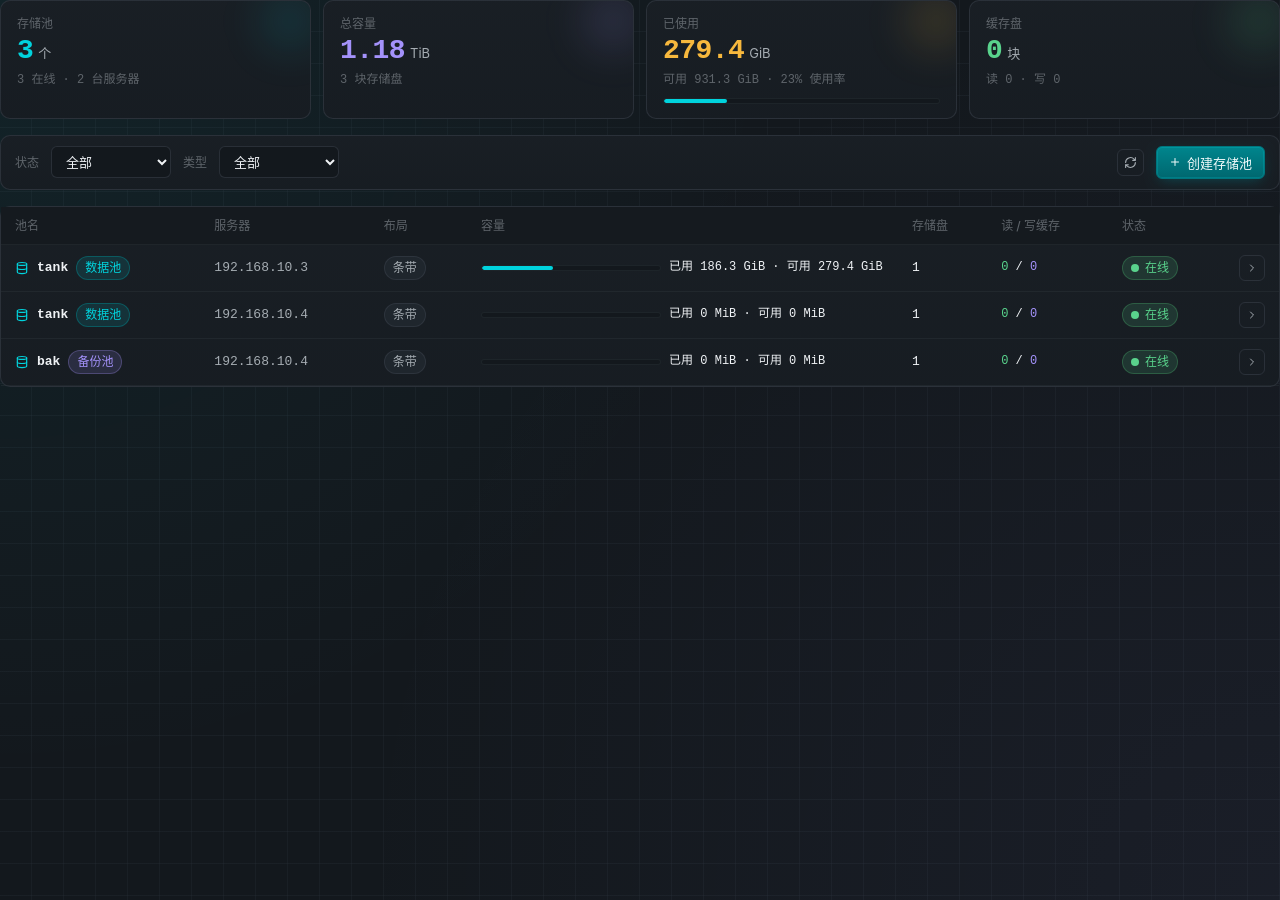
存储页的集群口径 › 两种都有的节点，类型置灰、不能创建
Click the button "创建存储池". click: {"x": 1210, "y": 162}
box: [1156,146,1265,179]
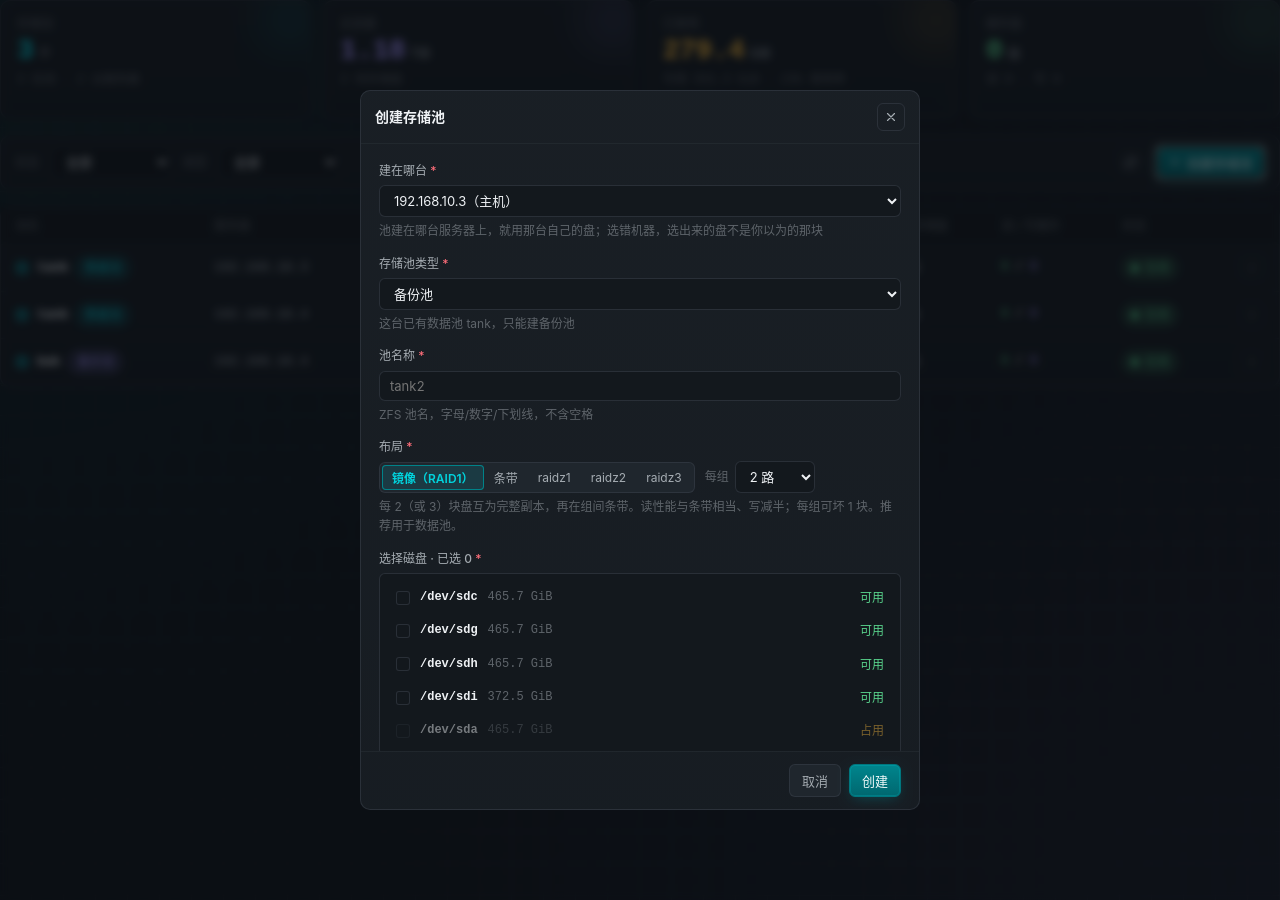
Select "192.168.10.4" in the dropdown named "建在哪台". click: {"x": 640, "y": 201}
box: [379,185,901,217]
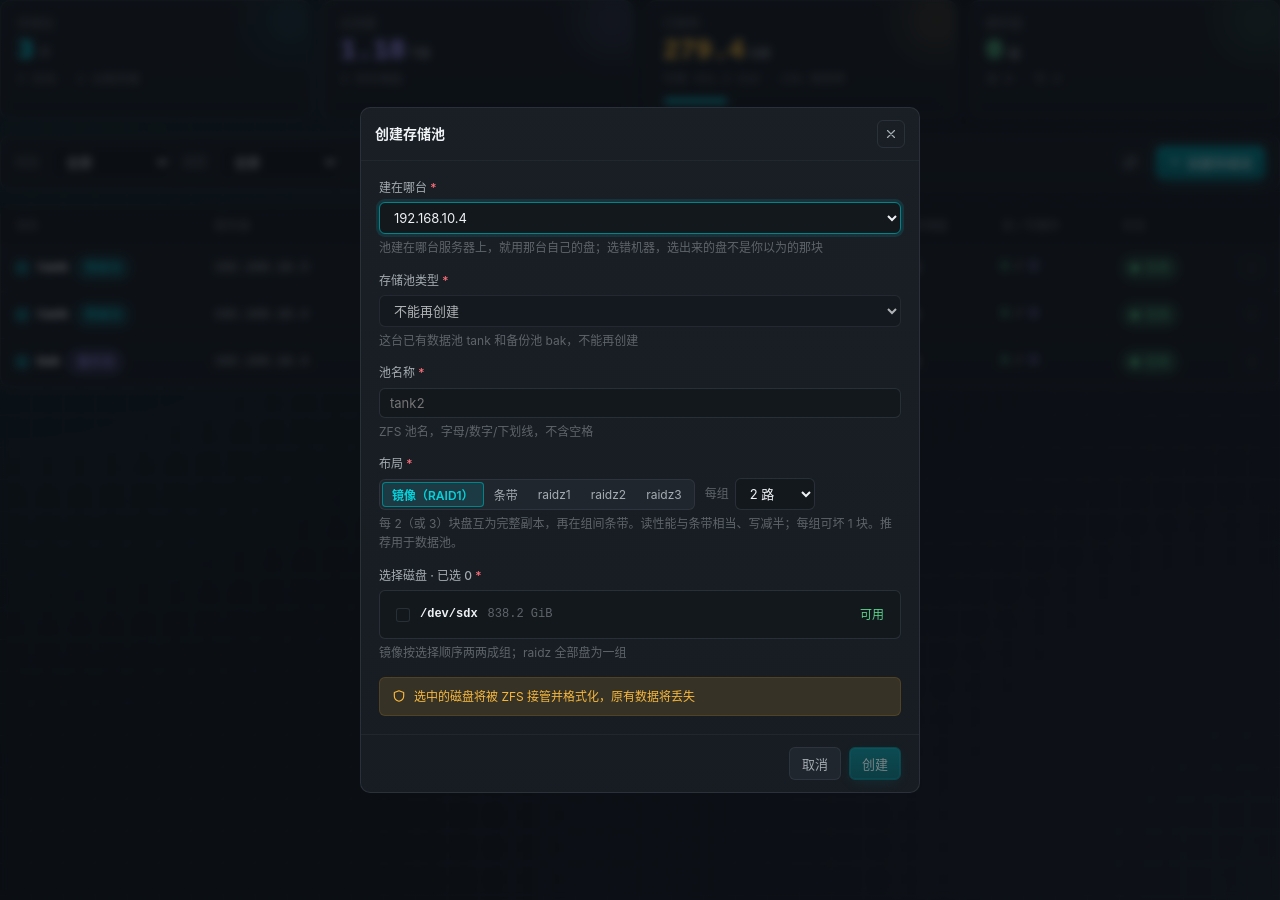
Result: the dropdown named "存储池类型" is disabled at [379,295,901,327]
Result: the text "这台已有数据池 tank 和备份池 bak，不能再创建" is shown at [379,333,638,348]
Result: the button "创建" is disabled at [849,747,901,780]
